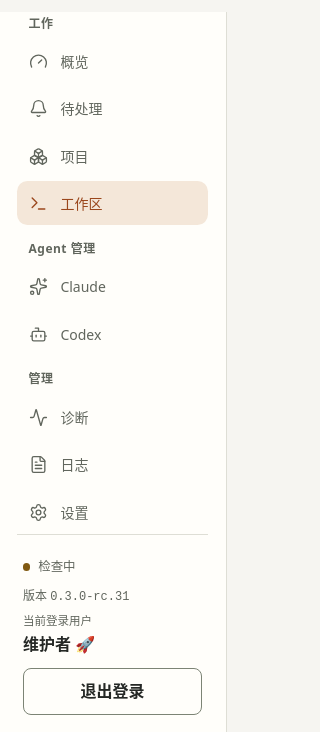
Scenario: AppShell › renders Chinese shell copy while preserving user and version values
(page scrolled)
Expected: the navigation bar named "主导航" is shown, [17,14,208,534]
Expected: the link "工作区" is shown, [17,181,208,225]
Click the button "退出登录": [112, 692] box [23,668,202,715]
(page scrolled)
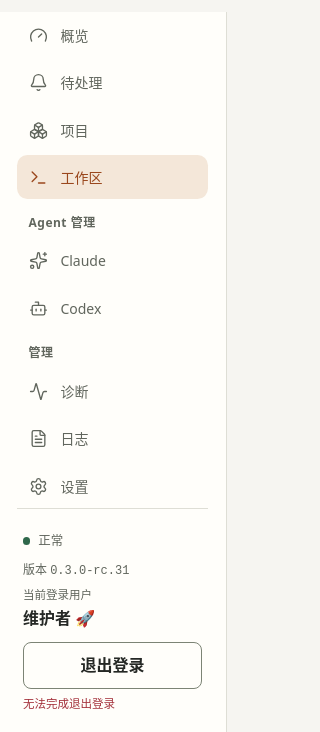
Expected: the message reads "无法完成退出登录", [23,696,115,711]
